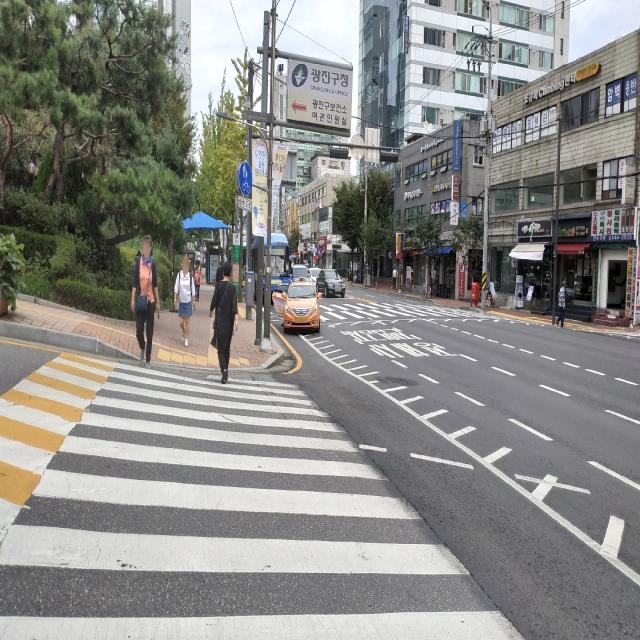횡단보도: (0, 361, 526, 640), (315, 304, 494, 321)
